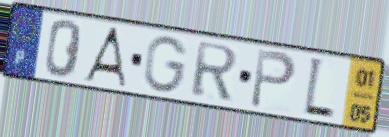0: (43, 18, 84, 80)
A: (79, 25, 128, 90)
G: (142, 34, 191, 95)
L: (301, 54, 337, 123)
P: (248, 47, 298, 112)
R: (189, 39, 241, 102)
